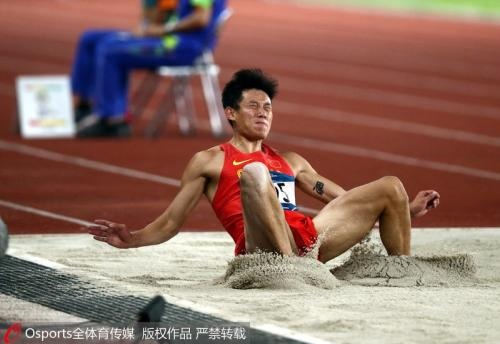falling: (89, 58, 454, 283)
